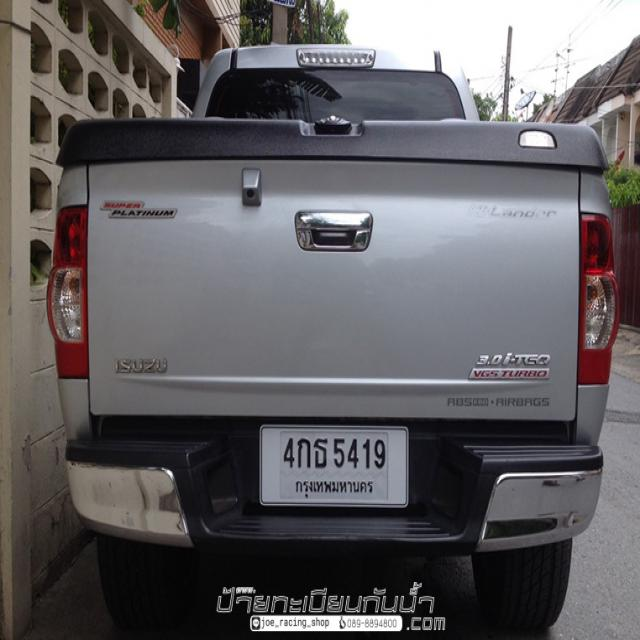license_plate: (259, 421, 410, 509)
